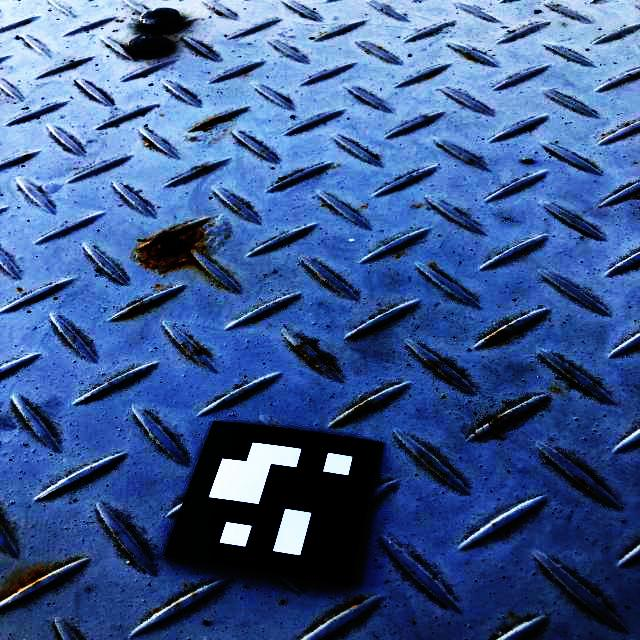Corrosion: (134, 222, 208, 275), (0, 568, 47, 601), (293, 344, 317, 366), (485, 329, 513, 346), (125, 300, 154, 314), (348, 404, 375, 418), (316, 355, 336, 371), (199, 115, 225, 126), (160, 37, 170, 47)
